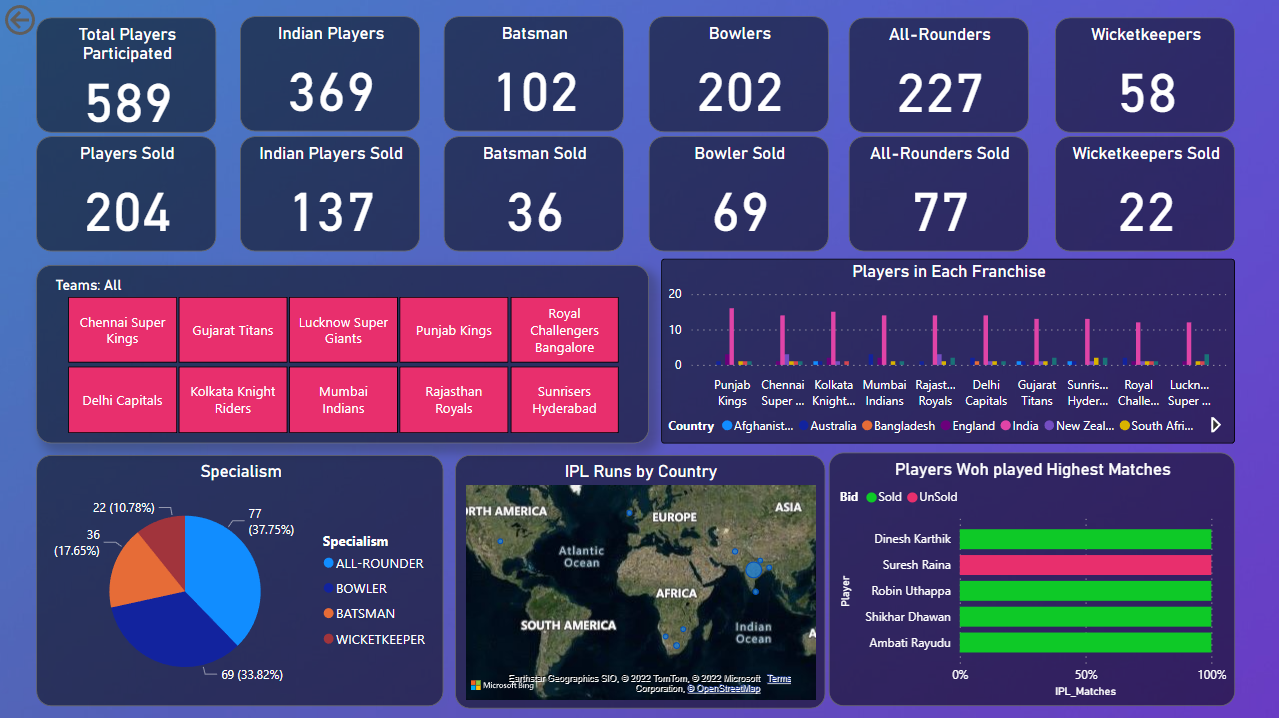

The page's visual inventory and layout, read from the dashboard file:
{"tool":"powerbi","page":{"name":"Page 1","canvas":[1280,720],"ordinal":0},"visuals":[{"type":"card","title":"Total Players Participated","fields":{"Values":["IPL22_Auction_CleanData.Player"]},"box":[36.2,17.5,180,115],"z":0},{"type":"card","title":"Indian Players","fields":{"Values":["IPL22_Auction_CleanData.Player"]},"box":[240,16.2,180,115],"z":1000},{"type":"card","title":"Batsman","fields":{"Values":["IPL22_Auction_CleanData.Player"]},"box":[443.8,16.2,180,115],"z":2000},{"type":"card","title":"Bowlers","fields":{"Values":["IPL22_Auction_CleanData.Player"]},"box":[648.8,16.2,180,116.2],"z":3000},{"type":"card","title":"All-Rounders","fields":{"Values":["IPL22_Auction_CleanData.Player"]},"box":[848.8,17.5,180,115],"z":4000},{"type":"card","title":"Wicketkeepers","fields":{"Values":["IPL22_Auction_CleanData.Player"]},"box":[1055,17.5,180,115],"z":5000},{"type":"card","title":"Players Sold","fields":{"Values":["IPL22_Auction_CleanData.Player"]},"box":[36.2,136.2,180,115],"z":6000},{"type":"card","title":"Indian Players Sold","fields":{"Values":["IPL22_Auction_CleanData.Player"]},"box":[240,136.2,180,115],"z":7000},{"type":"card","title":"Batsman Sold","fields":{"Values":["IPL22_Auction_CleanData.Player"]},"box":[443.8,136.2,180,115],"z":8000},{"type":"card","title":"Bowler Sold","fields":{"Values":["IPL22_Auction_CleanData.Player"]},"box":[648.8,136.2,180,115],"z":9000},{"type":"card","title":"All-Rounders Sold","fields":{"Values":["IPL22_Auction_CleanData.Player"]},"box":[848.8,136.2,180,115],"z":10000},{"type":"card","title":"Wicketkeepers Sold","fields":{"Values":["IPL22_Auction_CleanData.Player"]},"box":[1055,136.2,180,115],"z":11000},{"type":"slicer","fields":{"Values":["IPL22_Auction_CleanData.New Franchise"]},"box":[36.2,265,612.5,178.8],"z":12000},{"type":"pieChart","title":"Specialism","fields":{"Category":["IPL22_Auction_CleanData.Specialism"],"Y":["IPL22_Auction_CleanData.Bid"]},"box":[36.2,455,407.5,251.2],"z":14000},{"type":"map","title":"IPL Runs by Country","fields":{"Category":["IPL22_Auction_CleanData.Country"],"Size":["IPL22_Auction_CleanData.IPL_Runs"]},"box":[455,455,370,253.8],"z":15000},{"type":"clusteredColumnChart","title":"Players in Each Franchise","fields":{"Category":["IPL22_Auction_CleanData.New Franchise"],"Series":["IPL22_Auction_CleanData.Country"],"Y":["IPL22_Auction_CleanData.Country"]},"box":[661.2,258.8,573.8,185],"z":16000},{"type":"hundredPercentStackedBarChart","title":"Players Who played Highest Matches","fields":{"Y":["IPL22_Auction_CleanData.IPL_Matches"],"Category":["IPL22_Auction_CleanData.Player"],"Series":["IPL22_Auction_CleanData.Bid"]},"box":[828.8,452.5,406.2,253.8],"z":17000}]}

Visuals, with their boxes in screenshot pixels (x1, y1, x2, y2), scaled from the page's 1280x720 canvas onto the 1279x718 screenshot:
"Total Players Participated" card: bbox=[36, 17, 216, 132]
"Indian Players" card: bbox=[240, 16, 420, 131]
"Batsman" card: bbox=[443, 16, 623, 131]
"Bowlers" card: bbox=[648, 16, 828, 132]
"All-Rounders" card: bbox=[848, 17, 1028, 132]
"Wicketkeepers" card: bbox=[1054, 17, 1234, 132]
"Players Sold" card: bbox=[36, 136, 216, 251]
"Indian Players Sold" card: bbox=[240, 136, 420, 251]
"Batsman Sold" card: bbox=[443, 136, 623, 251]
"Bowler Sold" card: bbox=[648, 136, 828, 251]
"All-Rounders Sold" card: bbox=[848, 136, 1028, 251]
"Wicketkeepers Sold" card: bbox=[1054, 136, 1234, 251]
slicer - IPL22_Auction_CleanData.New Franchise: bbox=[36, 264, 648, 443]
"Specialism" pieChart: bbox=[36, 454, 443, 704]
"IPL Runs by Country" map: bbox=[455, 454, 824, 707]
"Players in Each Franchise" clusteredColumnChart: bbox=[661, 258, 1234, 443]
"Players Who played Highest Matches" hundredPercentStackedBarChart: bbox=[828, 451, 1234, 704]
